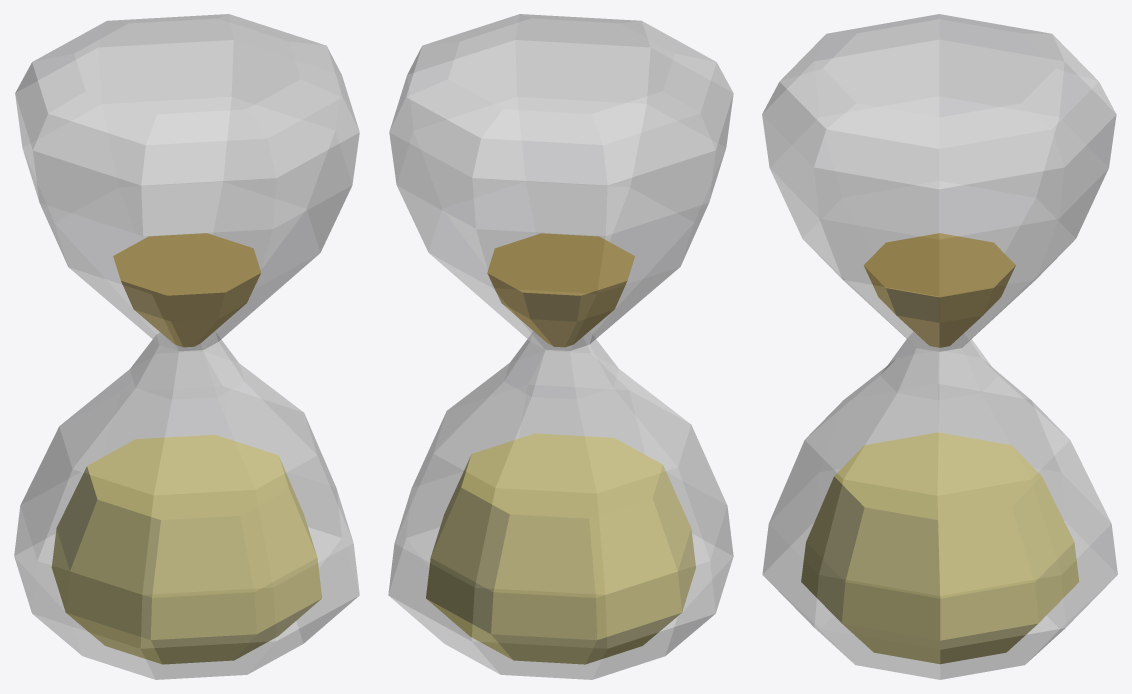
Rendered from SandsOfTime.fbx.
The picture shows the model from 3 angles, left to right: view 1: azimuth 30°, elevation 25°; view 2: azimuth 150°, elevation 25°; view 3: azimuth 270°, elevation 25°; orthographic projection.
Visible parts, largest first — view 1: Cylinder.001, Cylinder, Cylinder.002; view 2: Cylinder.001, Cylinder, Cylinder.002; view 3: Cylinder.001, Cylinder, Cylinder.002.
Boxes of the visible parts, x1=… form: Cylinder.001: x1=14, y1=14, x2=359, y2=679; Cylinder: x1=51, y1=434, x2=321, y2=664; Cylinder.002: x1=113, y1=233, x2=260, y2=347; Cylinder.001: x1=388, y1=14, x2=733, y2=679; Cylinder: x1=426, y1=433, x2=695, y2=664; Cylinder.002: x1=487, y1=233, x2=634, y2=347; Cylinder.001: x1=762, y1=14, x2=1117, y2=679; Cylinder: x1=801, y1=432, x2=1079, y2=664; Cylinder.002: x1=864, y1=233, x2=1015, y2=347.
Size of the model in its own units: 568 by 988 by 568.
